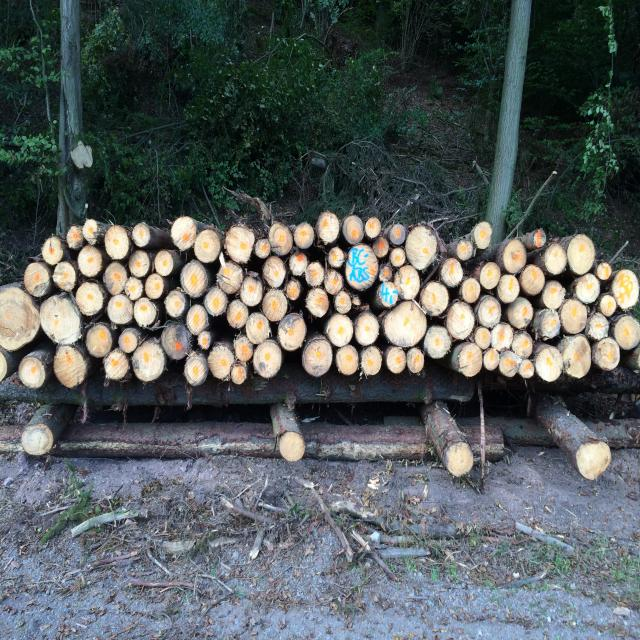wood-log: (0, 285, 39, 351), (41, 296, 82, 346), (384, 300, 427, 346), (344, 245, 380, 294), (405, 224, 439, 272), (54, 346, 88, 388), (133, 340, 166, 382), (577, 441, 612, 480), (560, 336, 591, 380), (225, 225, 257, 264), (446, 302, 477, 340), (302, 338, 333, 376), (254, 339, 283, 379), (613, 268, 640, 310), (75, 281, 107, 316), (277, 314, 306, 352), (422, 281, 452, 317), (568, 235, 595, 275), (536, 344, 564, 382), (22, 425, 55, 457), (161, 324, 190, 360), (24, 262, 52, 298), (425, 327, 455, 360), (397, 264, 423, 302), (87, 324, 116, 358), (170, 217, 198, 252), (560, 300, 587, 336), (184, 262, 211, 298), (103, 226, 131, 260), (445, 443, 473, 477), (208, 344, 235, 379), (501, 238, 527, 274), (456, 340, 482, 376), (150, 252, 172, 294), (216, 262, 243, 296), (195, 230, 222, 264), (19, 354, 46, 388), (354, 313, 380, 348), (593, 337, 620, 370), (508, 297, 534, 331), (508, 340, 536, 371), (328, 316, 355, 348), (78, 248, 105, 280), (264, 256, 290, 289), (316, 212, 341, 246), (616, 315, 640, 350), (277, 430, 305, 460), (269, 223, 293, 258), (107, 293, 133, 325), (520, 265, 546, 297), (263, 291, 289, 323), (544, 243, 568, 277), (573, 274, 600, 304), (306, 288, 332, 319), (104, 263, 129, 295), (184, 350, 206, 386), (203, 286, 229, 316), (103, 350, 129, 380), (245, 316, 271, 346), (542, 279, 568, 309), (53, 263, 77, 295), (478, 297, 502, 329), (239, 277, 263, 307), (496, 274, 520, 304), (41, 236, 64, 266), (491, 321, 514, 351), (135, 298, 158, 328), (337, 344, 360, 374), (165, 290, 188, 319), (537, 311, 560, 340), (228, 301, 251, 330), (442, 260, 465, 288), (129, 251, 152, 279), (344, 216, 365, 246), (188, 305, 209, 335), (502, 283, 529, 306), (480, 262, 502, 290), (361, 345, 381, 375), (587, 313, 610, 339), (145, 271, 166, 299), (514, 333, 536, 359), (523, 228, 547, 251), (476, 222, 495, 251), (121, 328, 142, 354), (460, 277, 481, 302), (234, 336, 254, 362), (387, 346, 406, 373), (296, 224, 316, 249), (156, 252, 175, 278), (85, 221, 104, 247), (323, 270, 343, 294), (132, 223, 151, 248), (289, 251, 307, 277), (306, 262, 324, 288), (334, 292, 354, 315), (597, 295, 617, 318), (499, 353, 519, 376), (328, 245, 348, 268), (373, 238, 393, 260), (66, 226, 84, 250), (408, 348, 425, 373), (283, 278, 302, 300), (199, 317, 212, 349), (389, 224, 407, 246), (458, 241, 476, 262), (484, 347, 500, 370), (126, 278, 144, 298), (476, 326, 492, 348), (596, 262, 613, 282), (390, 247, 406, 268), (366, 216, 380, 238), (233, 363, 248, 383), (257, 237, 271, 258), (0, 350, 9, 382), (630, 348, 640, 372), (199, 333, 213, 350), (520, 360, 534, 377)
